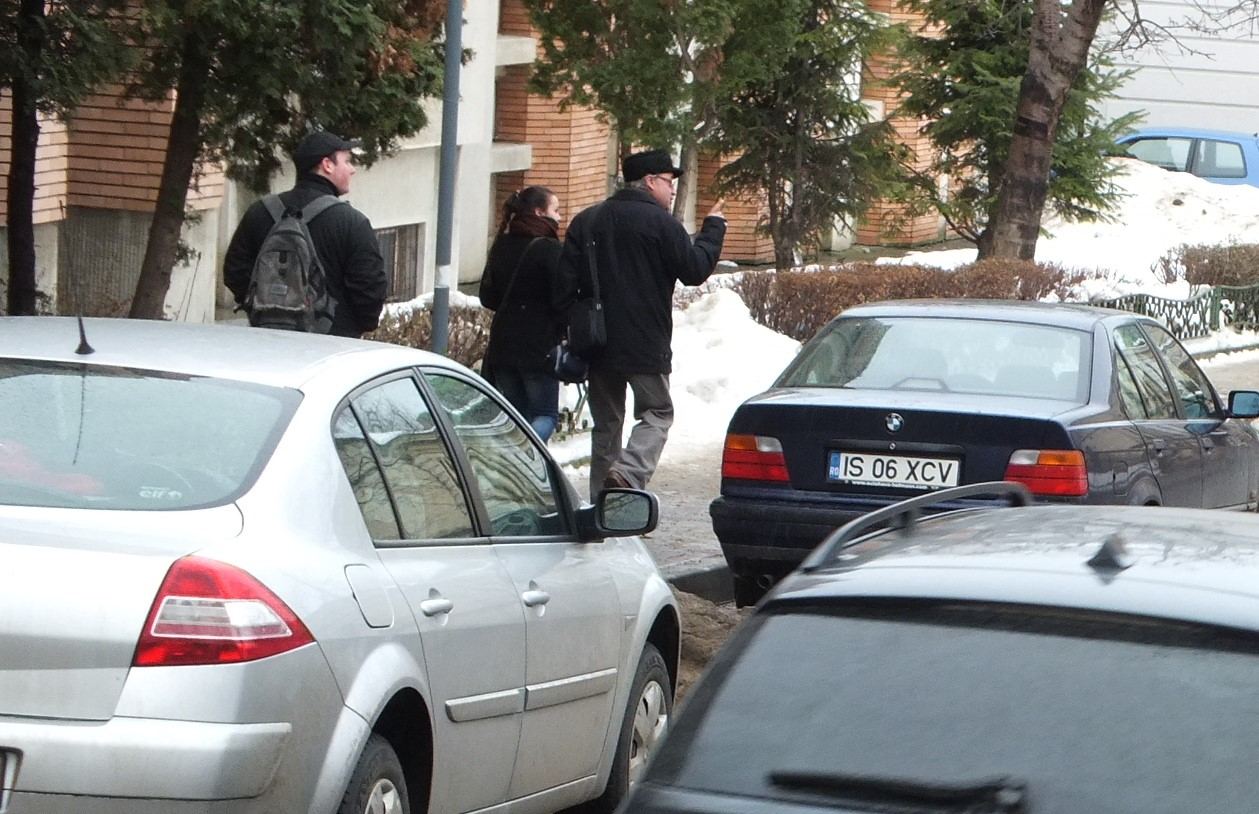IS06XCV: (826, 453, 952, 486)
